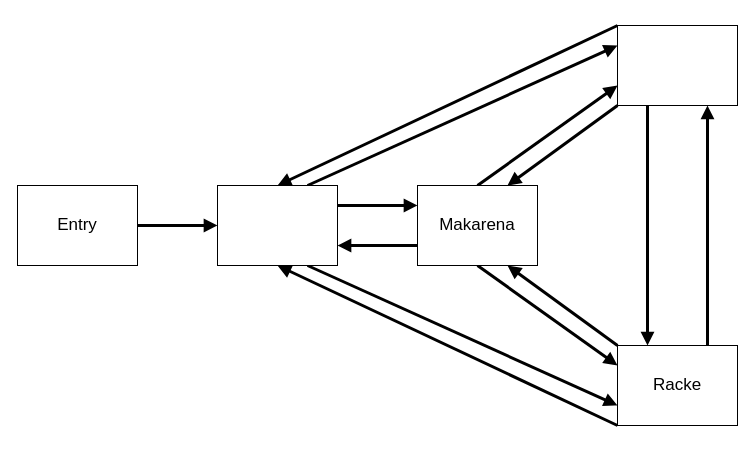
Image size: 755x452. Some labels were removed from this diagram. Here are the shapes that lost their labels. From the top down, the centre of each, then its label:
the point at 677,65: Twist
the point at 277,225: Idle
